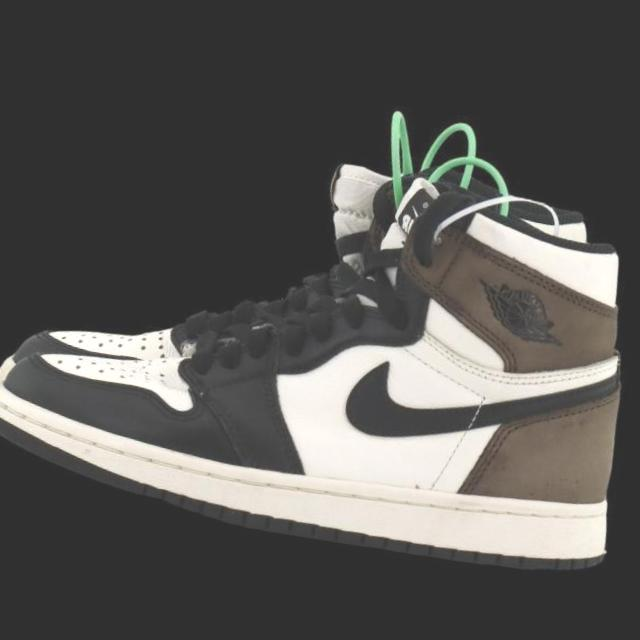nike_original_jordan: (0, 120, 640, 583), (0, 100, 599, 471)
